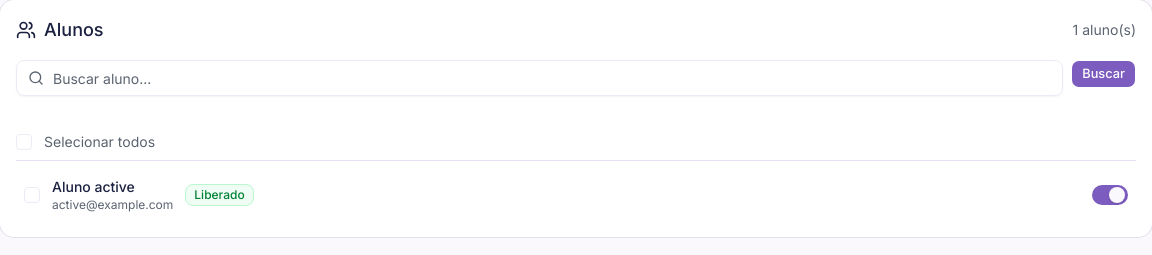
Scenario: StudentToggleList › revoga ACTIVE por DELETE e mantém o registro como REVOKED
The width and height of the screenshot is (1152, 255).
Click the switch with test id "student-toggle-active" at (1110,195), box top-left (1092, 185), bottom-right (1128, 205)
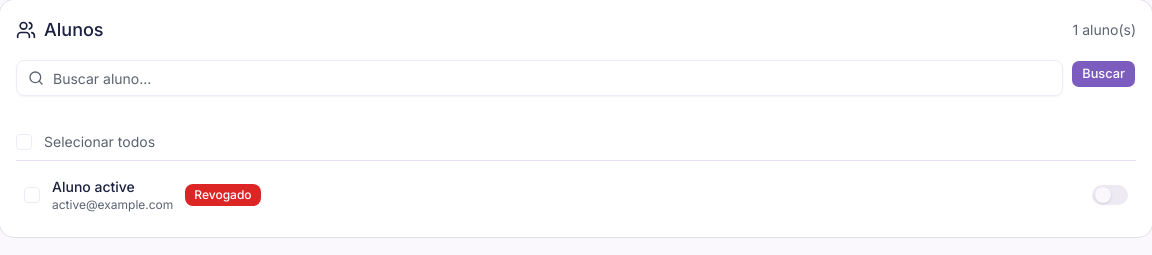
Check: the text with test id "student-status-active" reads "Revogado", box top-left (194, 187), bottom-right (252, 202)
